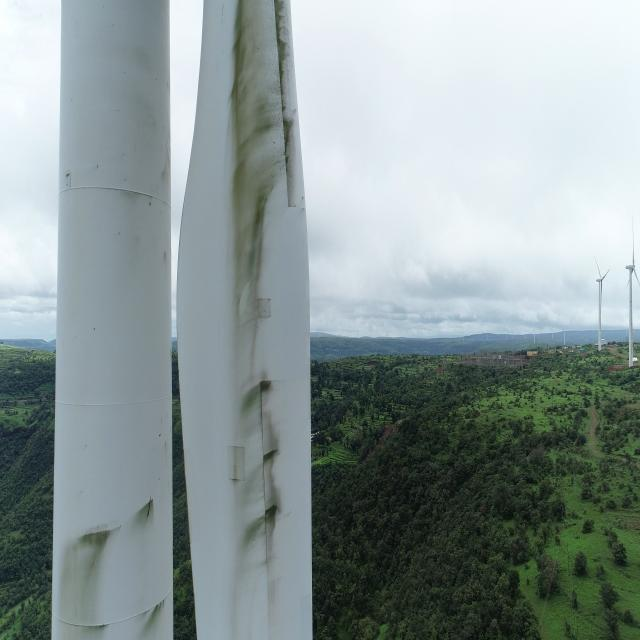Dirt: (217, 0, 306, 640), (54, 494, 161, 640), (133, 594, 167, 640)
